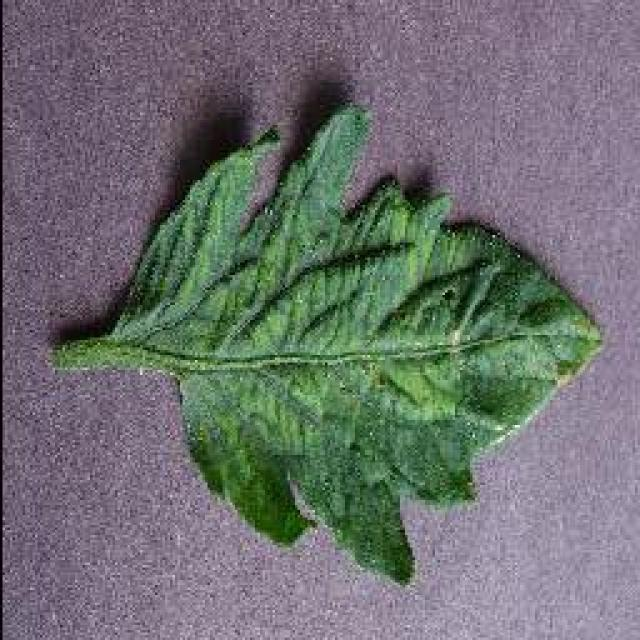Tomato___Tomato_mosaic_virus: (52, 105, 598, 580)
